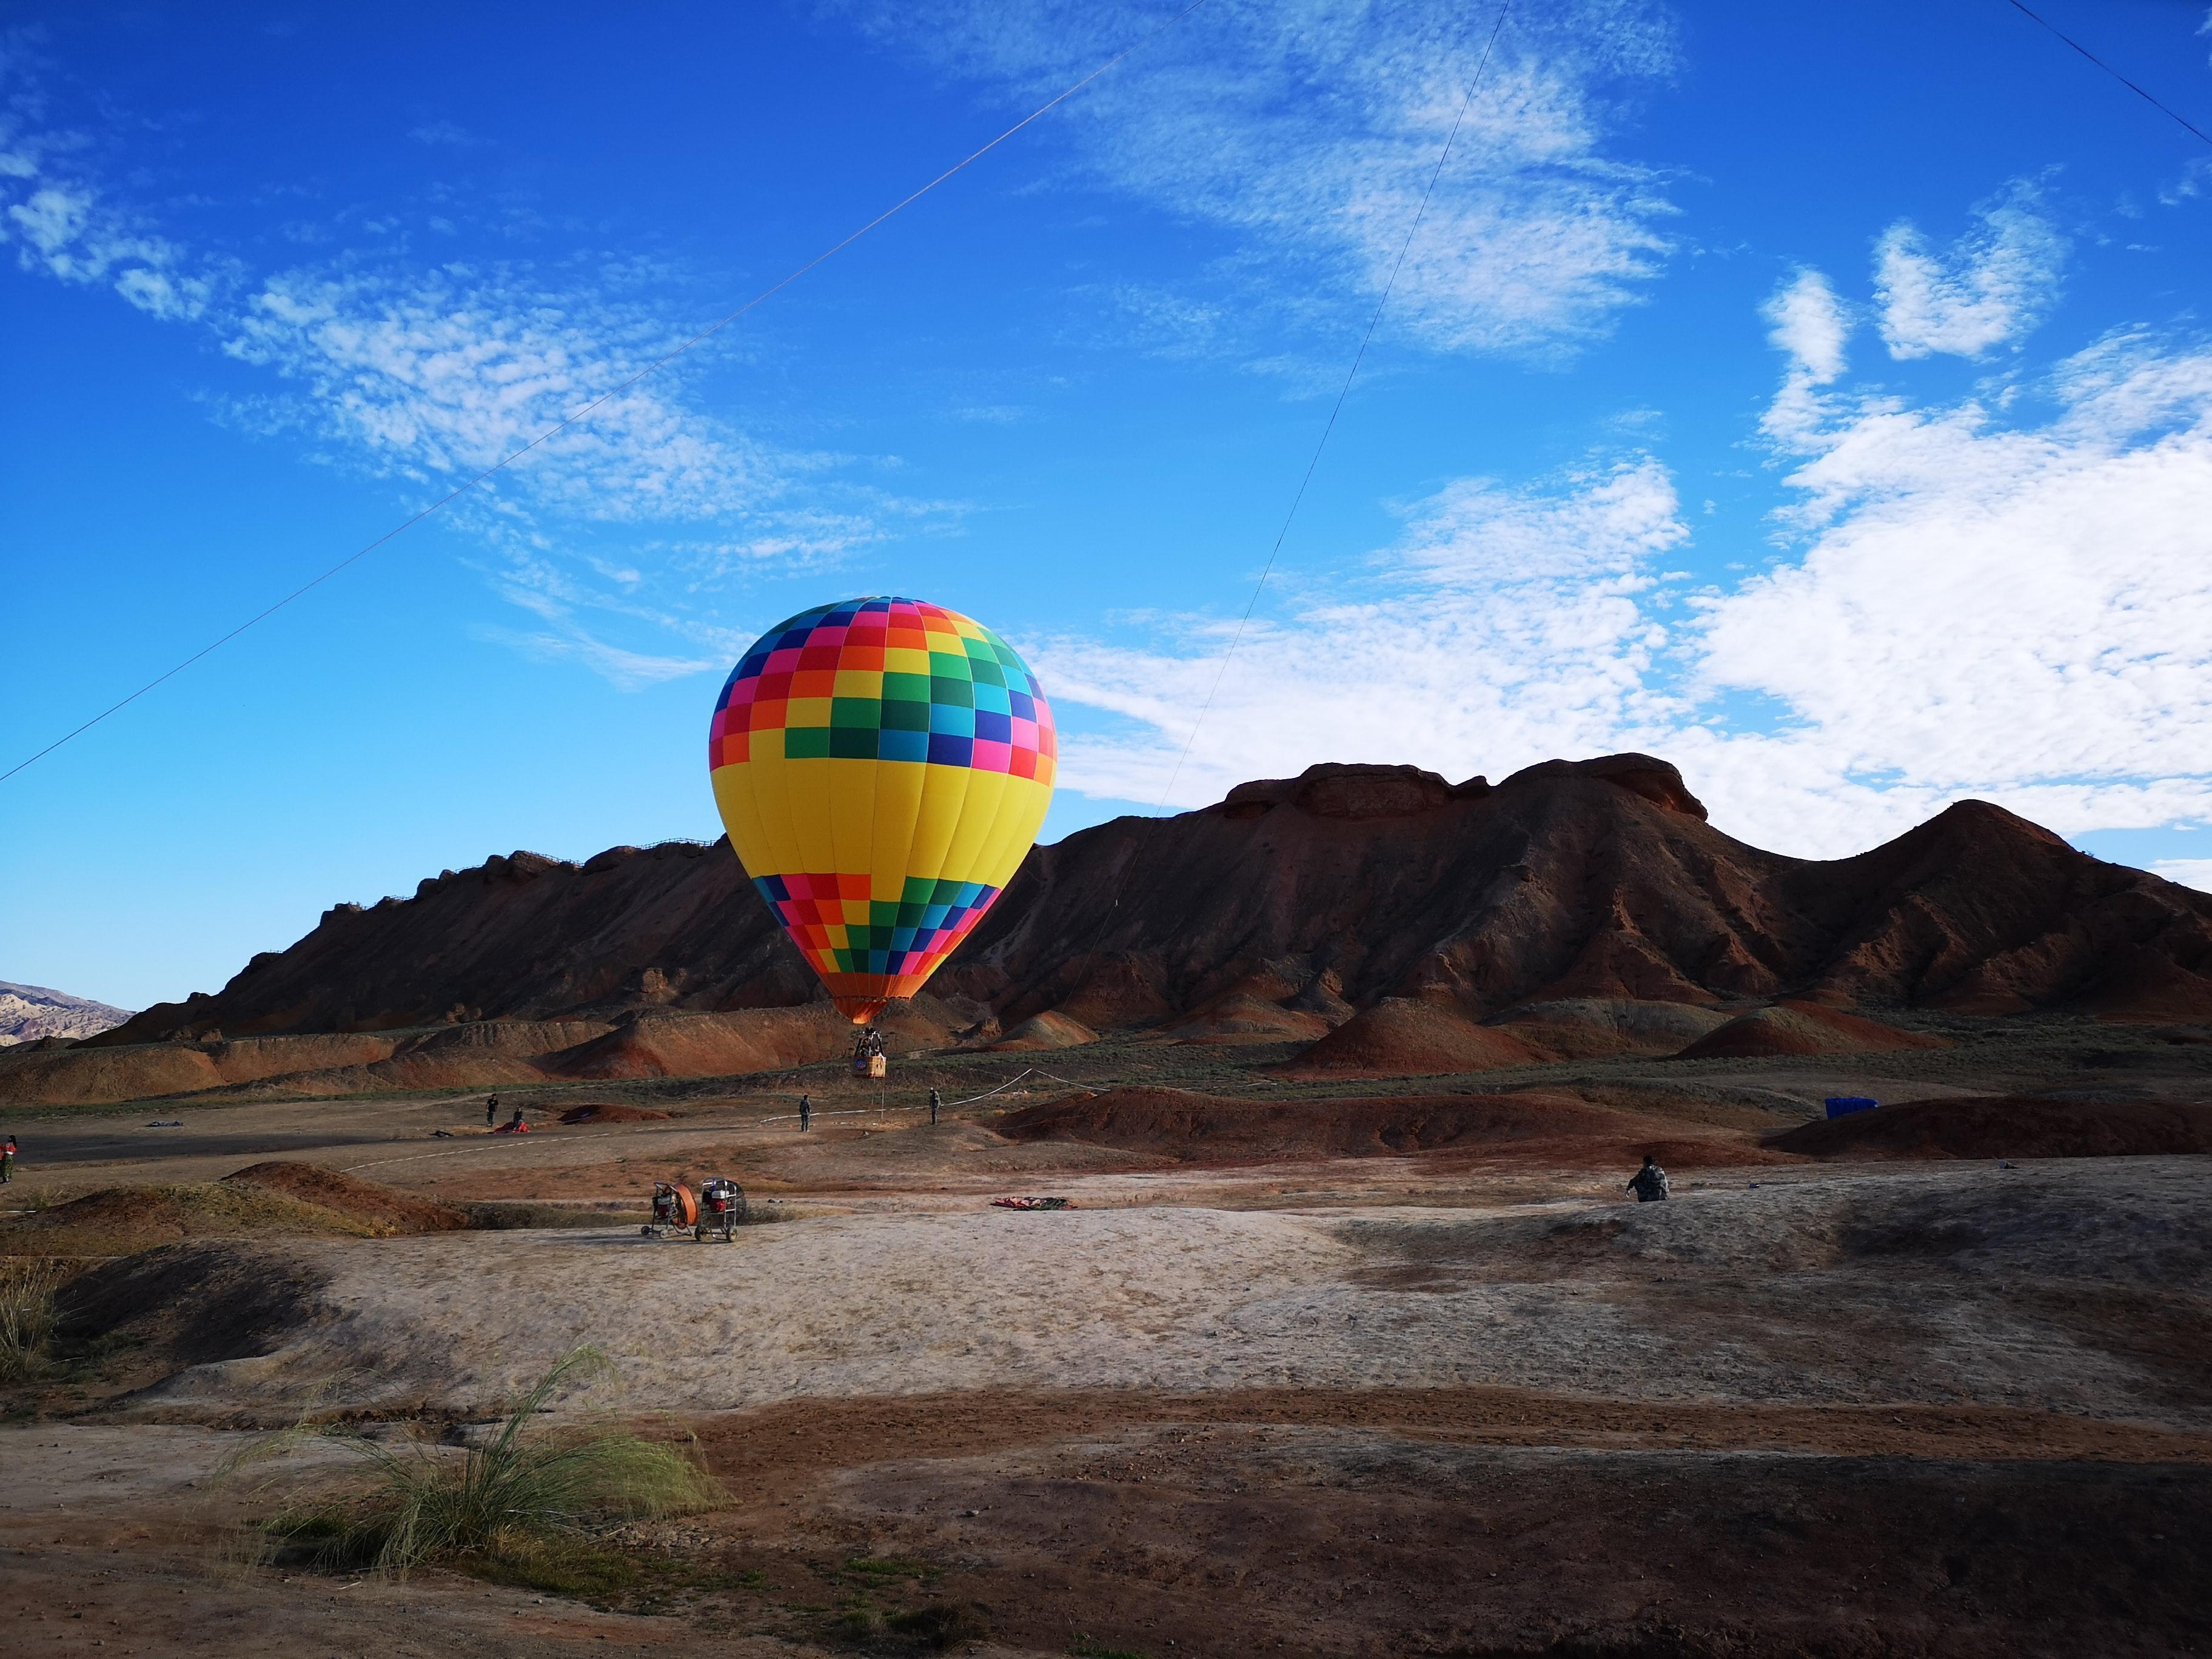hot air ballon: (711, 598, 1059, 1079)
